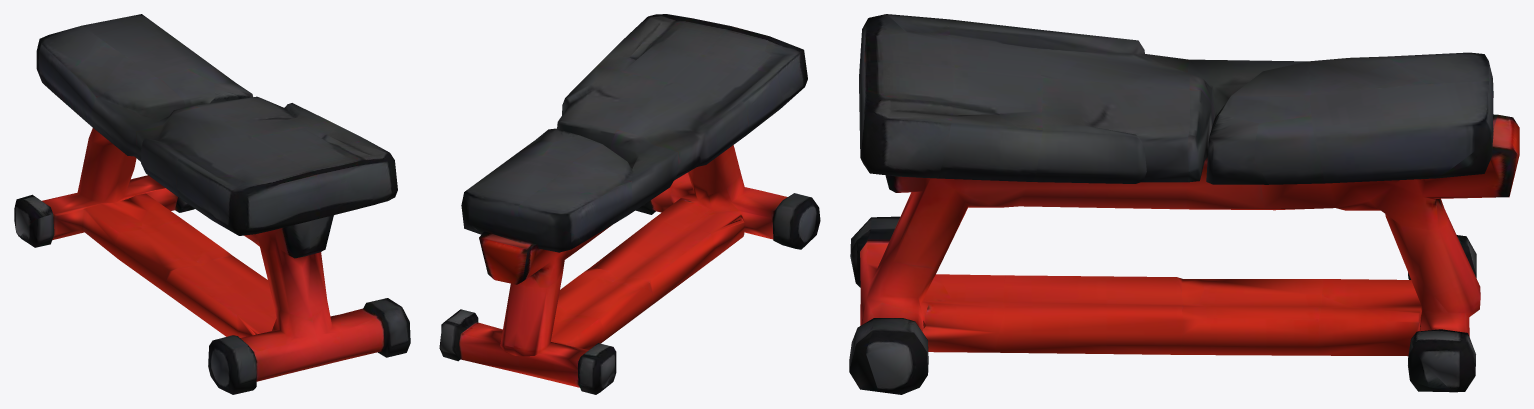
File: bench.glb
The picture shows the model from 3 angles, left to right: view 1: azimuth 30°, elevation 25°; view 2: azimuth 150°, elevation 25°; view 3: azimuth 270°, elevation 25°; orthographic projection. The views are drawn at different scales.
Visible parts, largest first — view 1: tripo_node_479e03e0-c9b4-471c-8a96-8c95af1d362d; view 2: tripo_node_479e03e0-c9b4-471c-8a96-8c95af1d362d; view 3: tripo_node_479e03e0-c9b4-471c-8a96-8c95af1d362d.
Boxes of the visible parts, left/top/right/bottom form: tripo_node_479e03e0-c9b4-471c-8a96-8c95af1d362d: left=14, top=14, right=410, bottom=394; tripo_node_479e03e0-c9b4-471c-8a96-8c95af1d362d: left=439, top=14, right=820, bottom=394; tripo_node_479e03e0-c9b4-471c-8a96-8c95af1d362d: left=849, top=14, right=1519, bottom=394.
Bounding box in the file's own units: 0.4213 × 0.4566 × 0.9989.
Materials: 1 (1 with a texture image).
